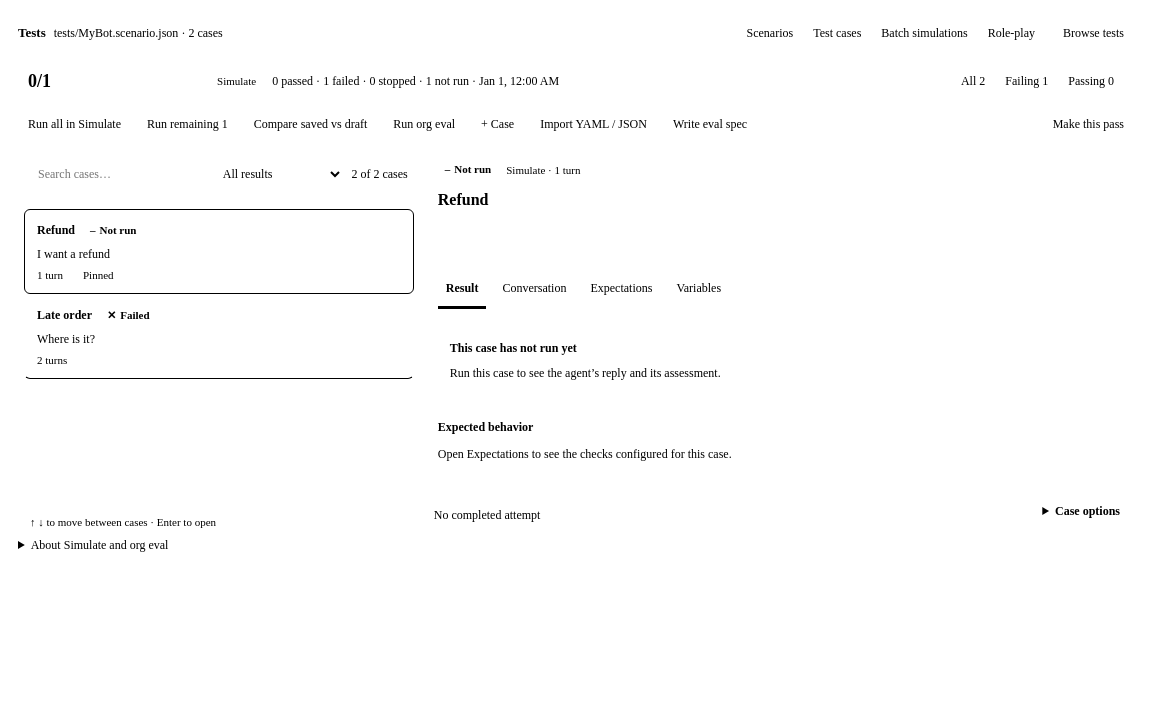
reports a fix loop that could not start
The image size is (1152, 720).
Expected: the element with test id "tests-cases-workbench" is shown, [18,145,1134,538]
Step 1. Click the button "Make this pass" → (1088, 124), box [1043,114,1134,135]
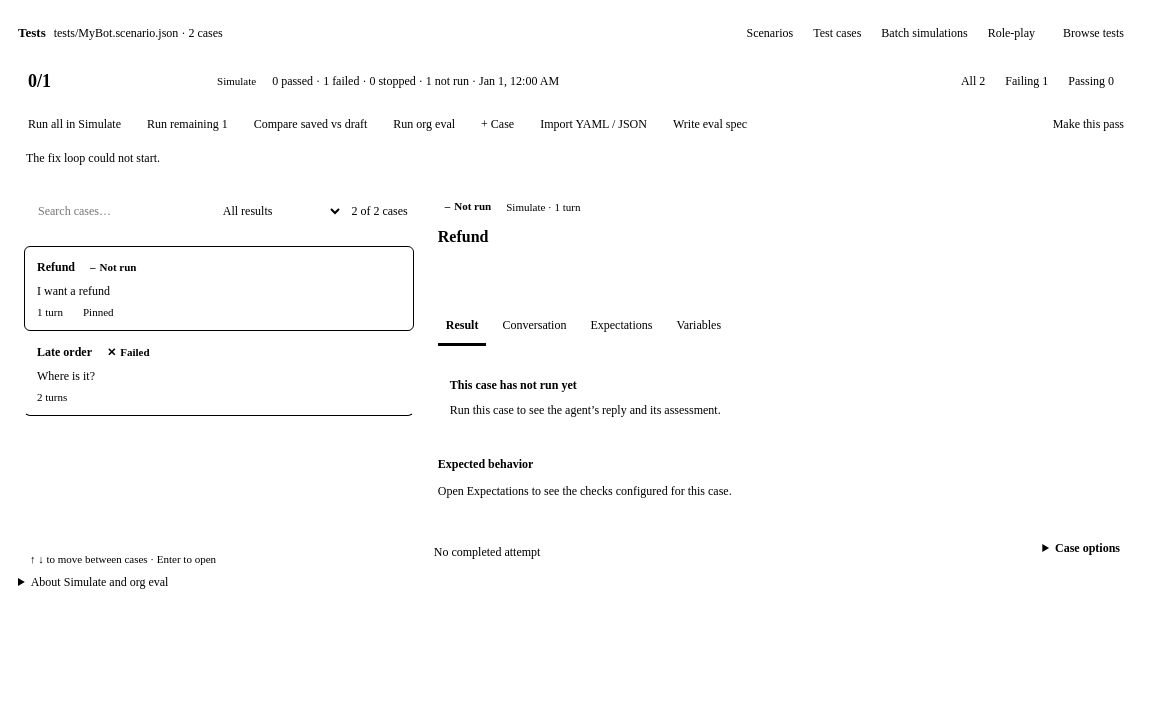
Expected: the text "The fix loop could not start." is shown, [26,151,160,166]
